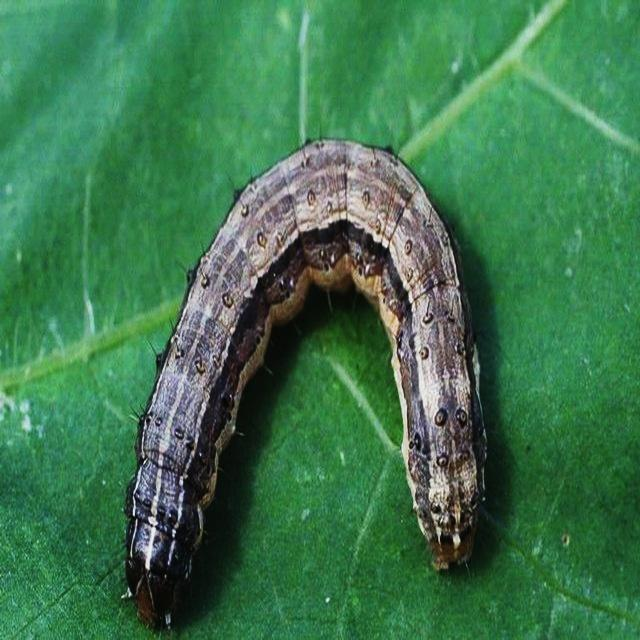gusano_cogollero: (116, 133, 496, 640)
